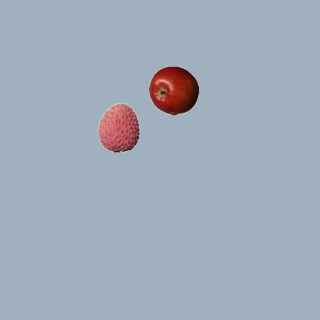Apple Braeburn: (148, 65, 198, 115)
Lychee: (93, 102, 143, 152)
